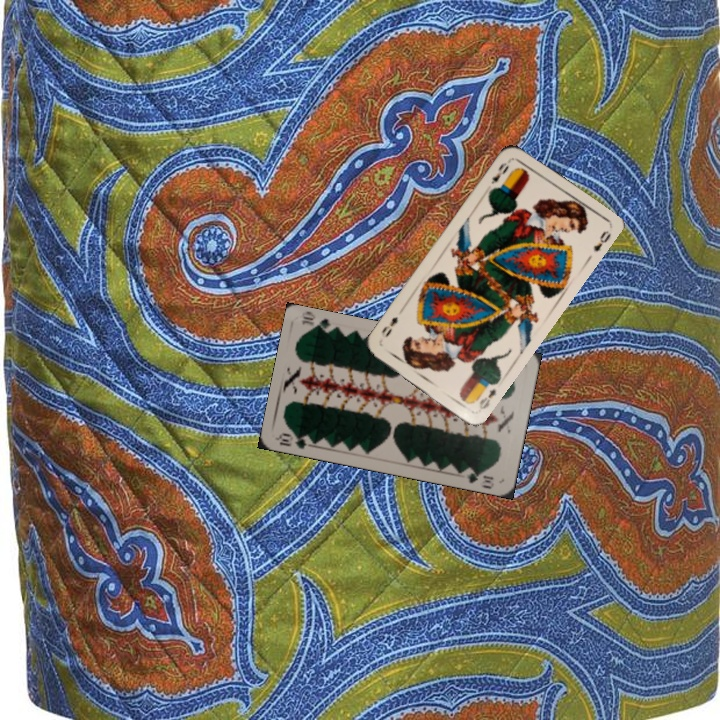EO: (487, 158, 512, 187), (475, 384, 499, 412)
G10: (274, 429, 315, 451)
